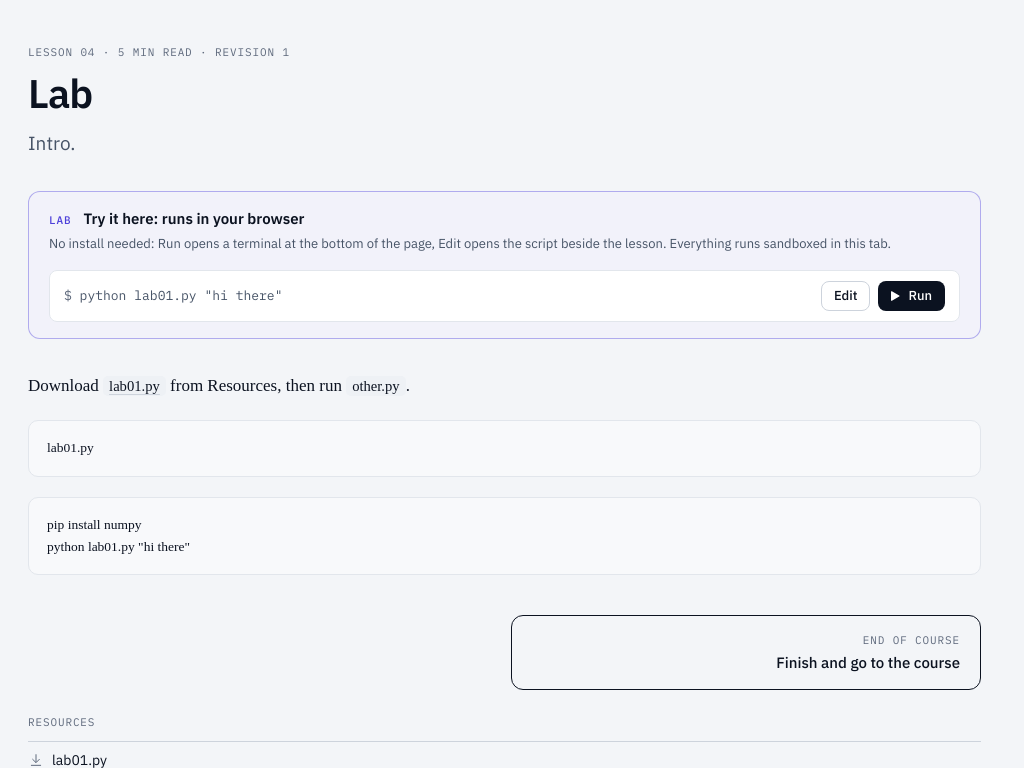
Test: lesson resources › the lab card's Edit opens the script in the editor drawer
Click the button with aria-label "Edit lab01.py".
click(846, 296)  # box [821,281,870,311]
(page scrolled)
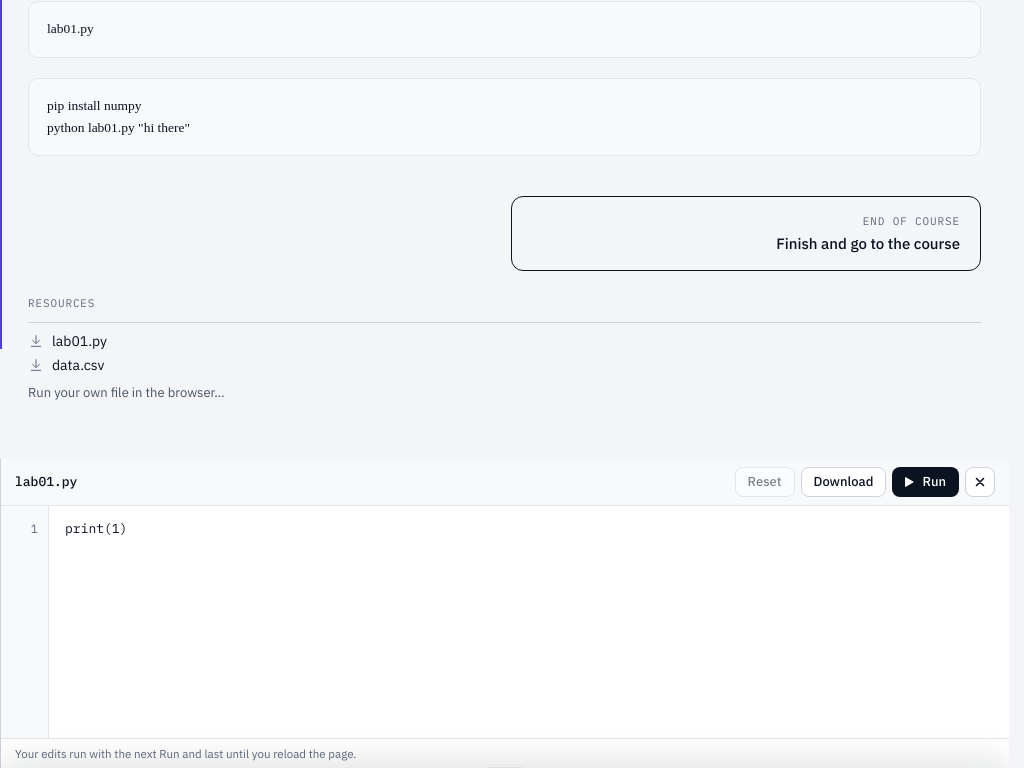
Now the text box named "Code of lab01.py" holds "print(1)", box [49,506,1009,738]
